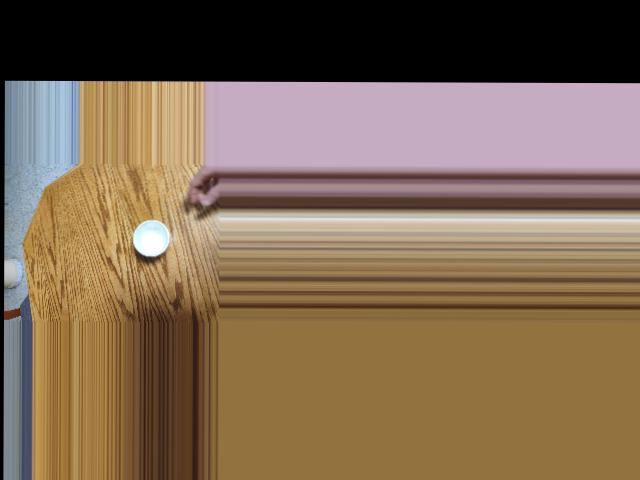cotage: (129, 216, 176, 256)
